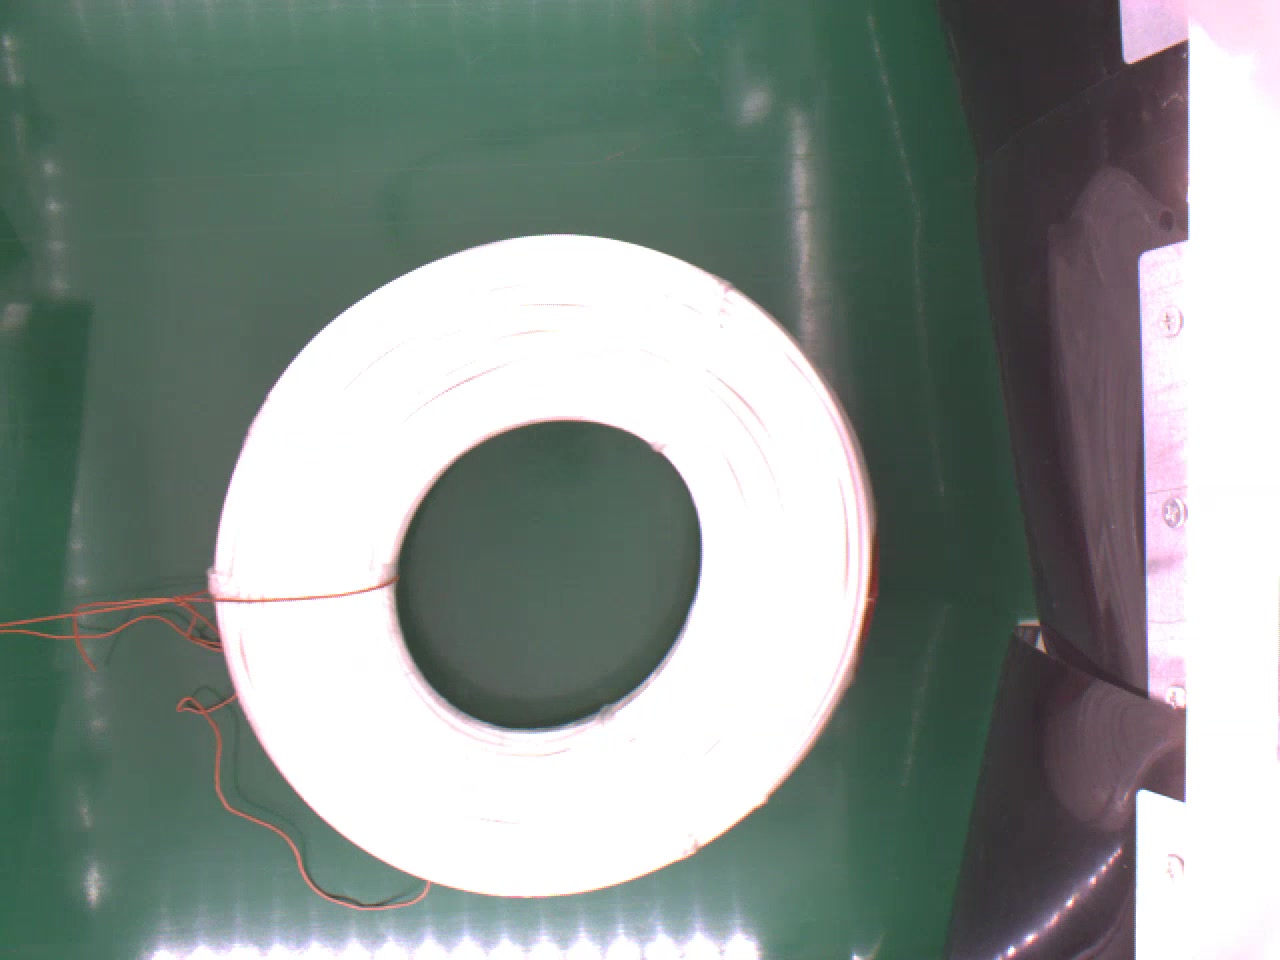white: (207, 231, 882, 896)
